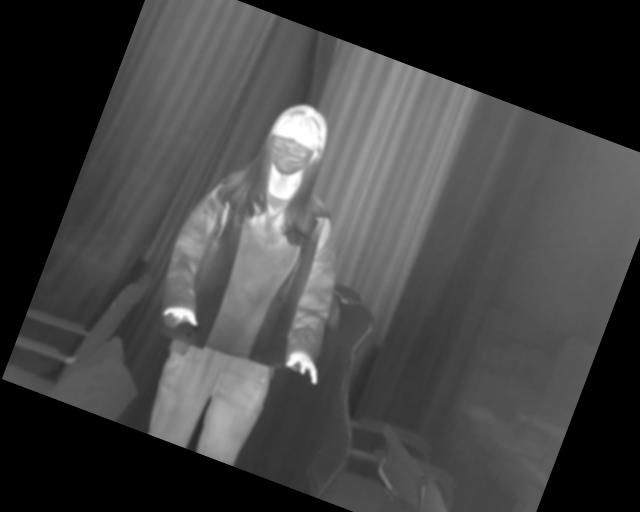face: (256, 95, 336, 185)
